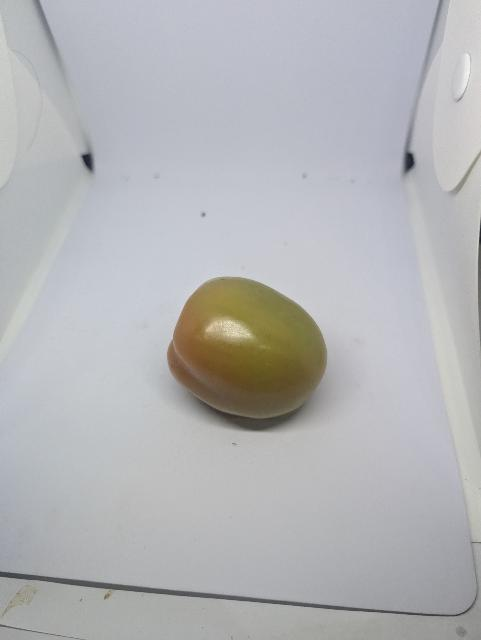breaker: (166, 270, 332, 432)
